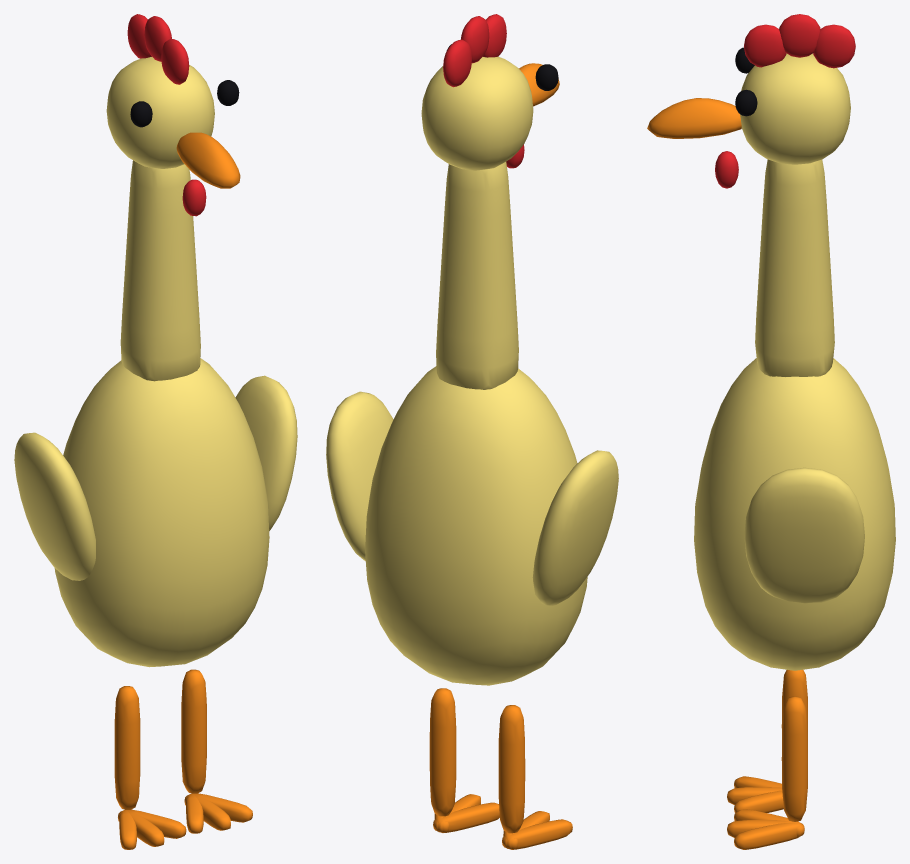
File: rubber_chicken.glb
The picture shows the model from 3 angles, left to right: view 1: azimuth 30°, elevation 25°; view 2: azimuth 150°, elevation 25°; view 3: azimuth 270°, elevation 25°; orthographic projection. The views are drawn at different scales.
Parts seen in each view (by area): view 1: WP_ChickenBody, WP_ChickenNeck, WP_ChickenHead; view 2: WP_ChickenBody, WP_ChickenNeck, WP_ChickenHead; view 3: WP_ChickenBody, WP_ChickenHead, WP_ChickenNeck.
Boxes of the visible parts, x1,y1,x2,y2 form: WP_ChickenBody: (14,358,297,849); WP_ChickenNeck: (120,160,200,381); WP_ChickenHead: (106,14,240,216); WP_ChickenBody: (326,366,618,849); WP_ChickenNeck: (436,162,518,389); WP_ChickenHead: (421,14,559,170); WP_ChickenBody: (694,358,895,849); WP_ChickenHead: (647,14,855,188); WP_ChickenNeck: (755,159,834,376).
Bounding box in the file's own units: 0.3041 × 0.9157 × 0.256.
